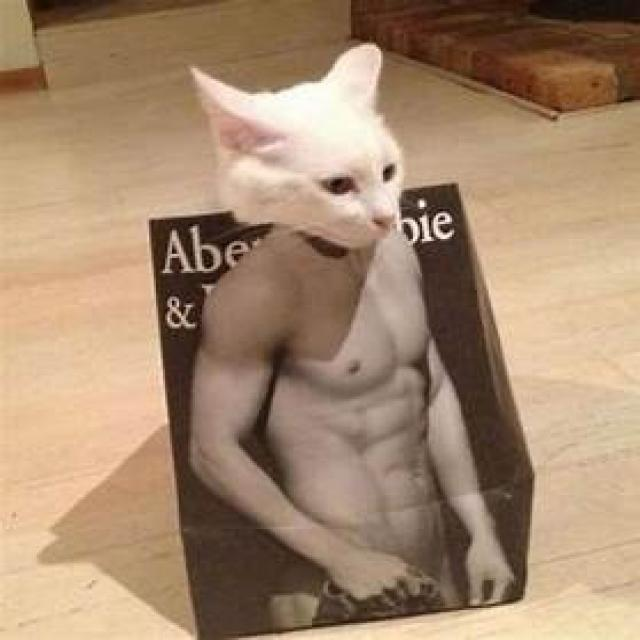animal: (187, 48, 424, 245)
